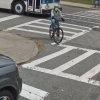Bicycle: (45, 16, 65, 48)
